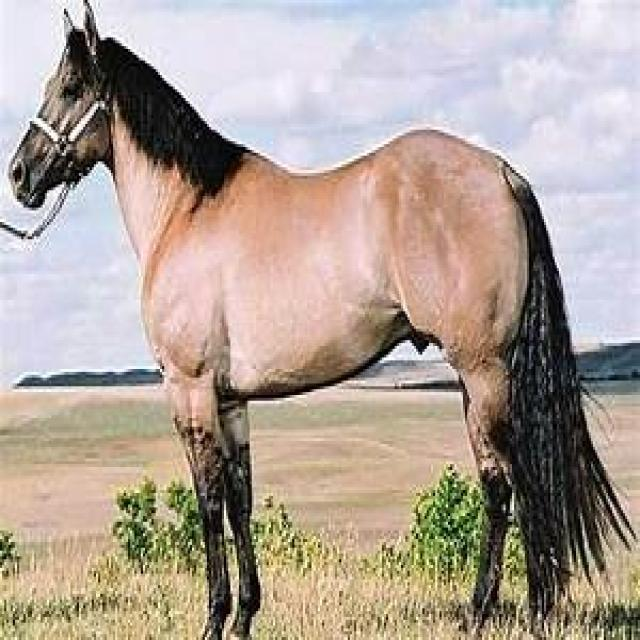animal: (6, 0, 636, 637)
